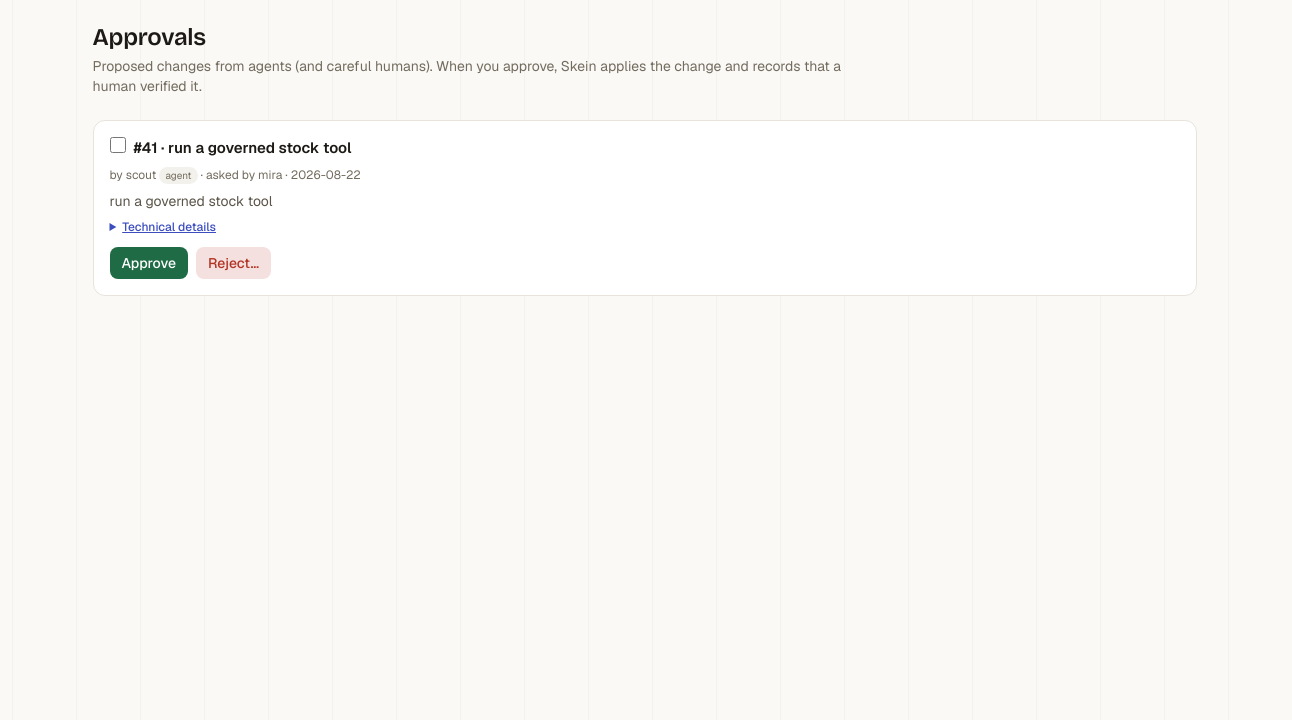
Test case: reviewed execution with unknown completion › settles the verdict, warns against retry, and keeps the outcome in history
Click the button with aria-label "Approve proposal #41: run a governed stock tool". click: [149, 263]
box: x1=110 y1=247 x2=188 y2=279
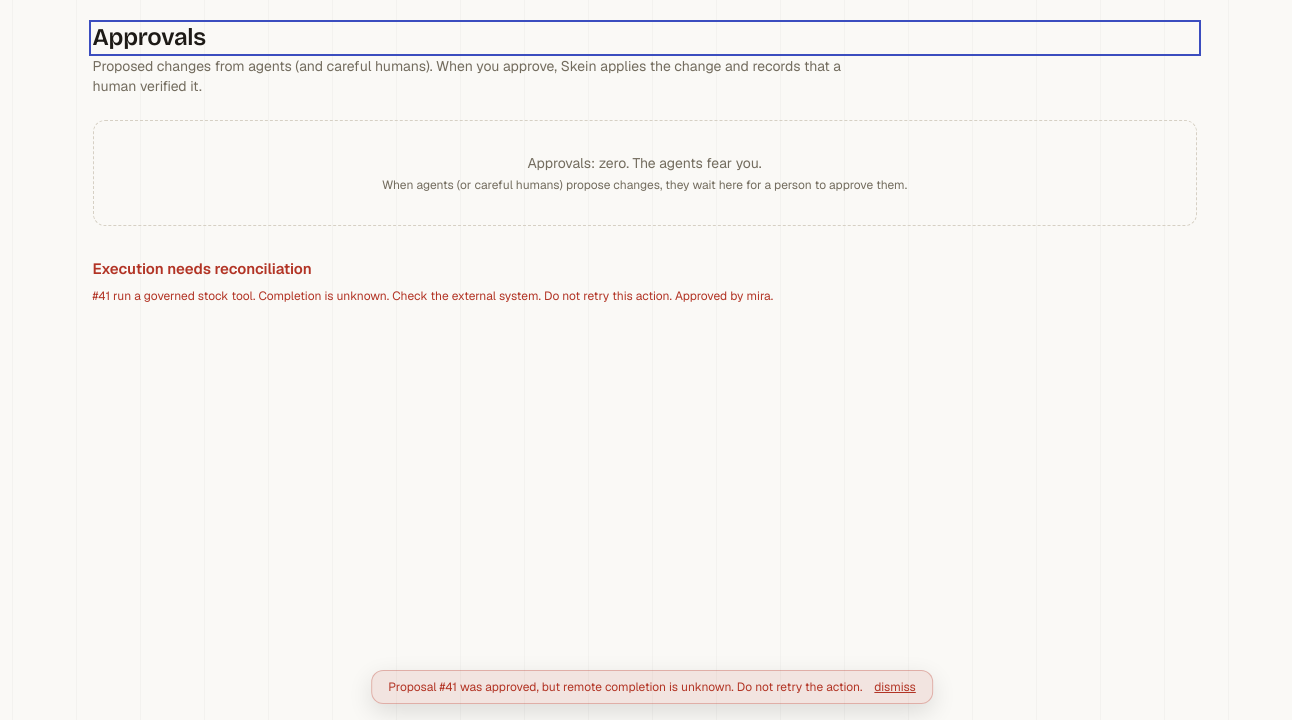
Expected: the heading "Execution needs reconciliation" is shown, x1=92 y1=259 x2=312 y2=278
Expected: the text "Completion is unknown. Check the external system. Do not retry this action." is shown, x1=253 y1=288 x2=672 y2=304
Expected: the text "Approved by mira" is shown, x1=672 y1=288 x2=773 y2=304
